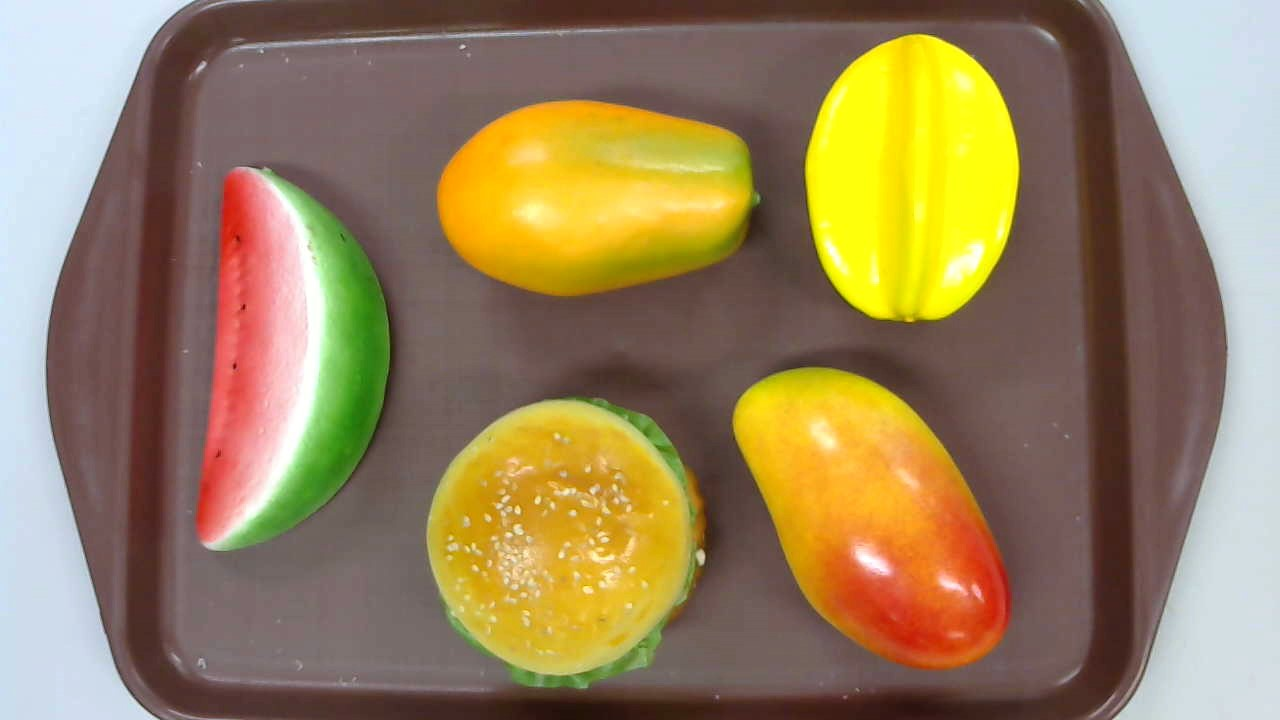hamburger: (426, 397, 708, 690)
papya: (436, 99, 760, 297)
red mango: (731, 366, 1014, 672)
star fruit: (804, 34, 1018, 322)
water melon: (194, 166, 391, 551)
